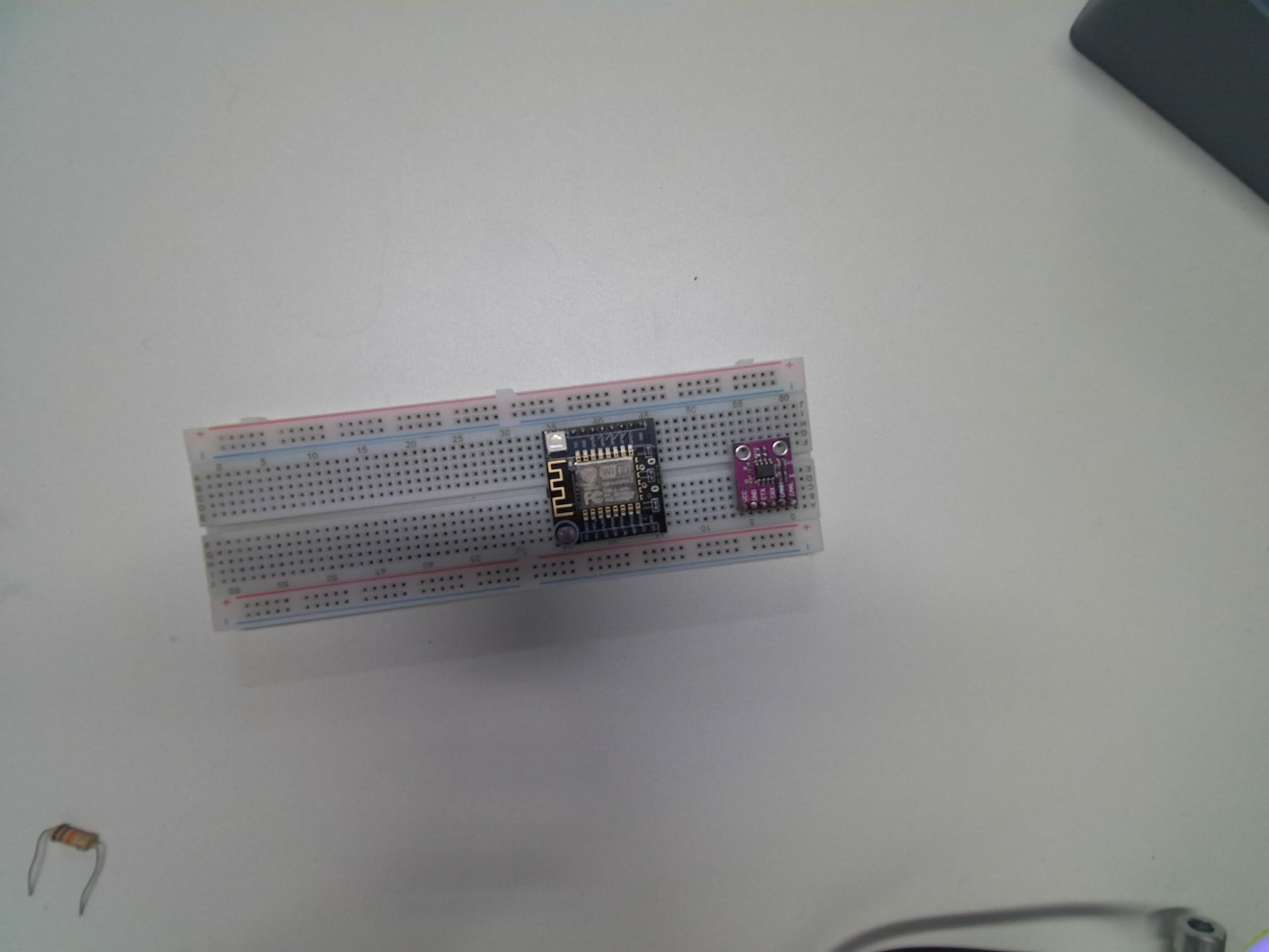base: (179, 359, 825, 636)
esp: (541, 417, 669, 551)
purple-board: (730, 436, 798, 514)
resistor-big: (43, 810, 99, 855)
